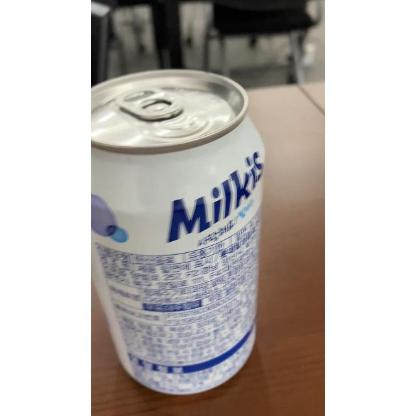Can: (91, 66, 267, 396)
